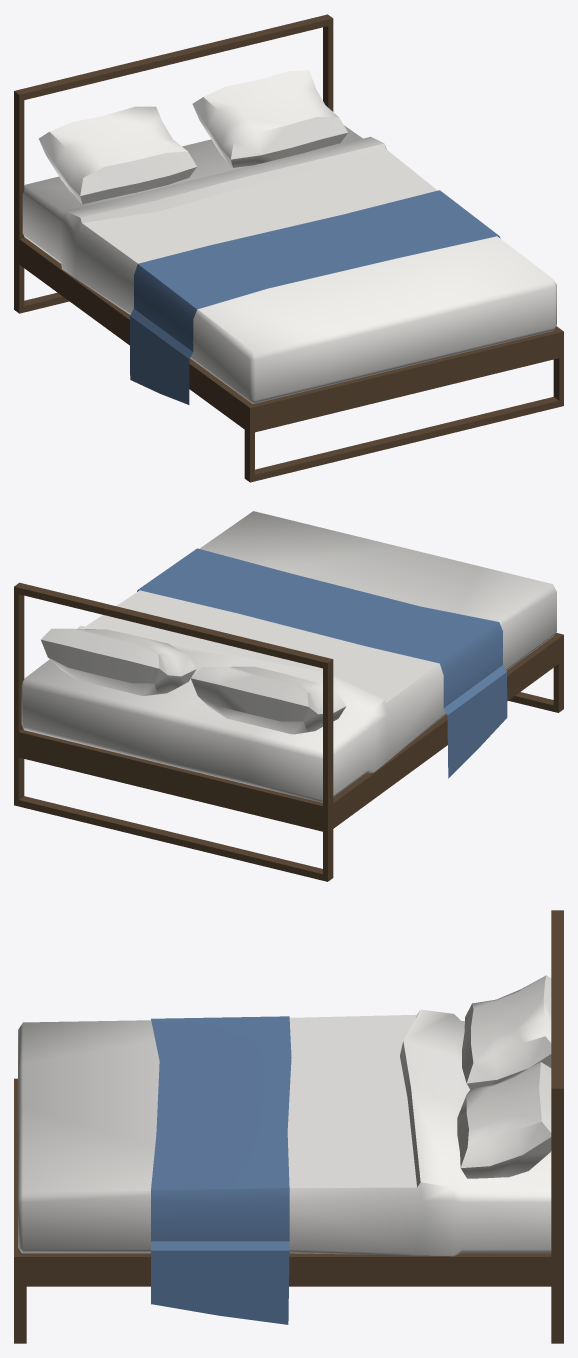
Rendered from pk_bediron_bronze.glb.
3 renders of one model, top to bottom at view 1: azimuth 30°, elevation 25°; view 2: azimuth 150°, elevation 25°; view 3: azimuth 270°, elevation 25°, orthographic. The views are drawn at different scales.
Visible parts, largest first — view 1: pk_bediron_bronze; view 2: pk_bediron_bronze; view 3: pk_bediron_bronze.
Part boxes in pixels (box(x1,y1,x2,y2)): pk_bediron_bronze: box(14, 14, 563, 482); pk_bediron_bronze: box(14, 511, 563, 881); pk_bediron_bronze: box(14, 910, 563, 1343).
Size of the model in its own units: 1.75 by 1.15 by 2.25.
Materials: 1 (1 with a texture image).
